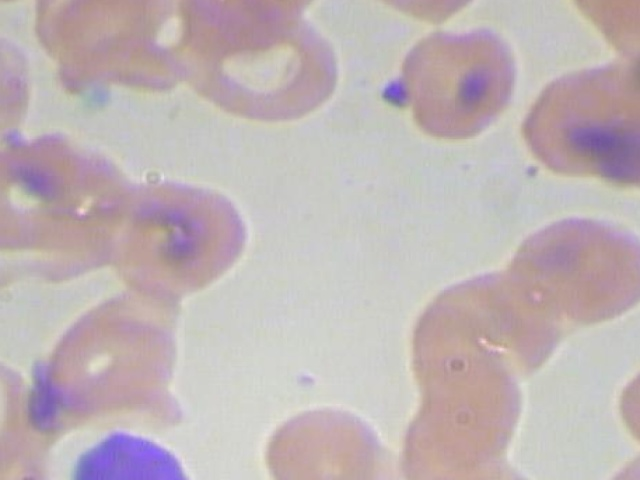Platelets: (364, 76, 415, 113)
RBC: (0, 134, 134, 279), (29, 307, 190, 426), (371, 22, 531, 141), (427, 260, 587, 378), (105, 176, 265, 294), (181, 12, 341, 130), (501, 210, 640, 328), (515, 59, 640, 185), (249, 400, 409, 480), (577, 64, 640, 200), (0, 27, 52, 145), (0, 343, 50, 461), (598, 338, 640, 457), (419, 456, 555, 480), (0, 429, 62, 480)
WBC: (59, 424, 223, 480)
